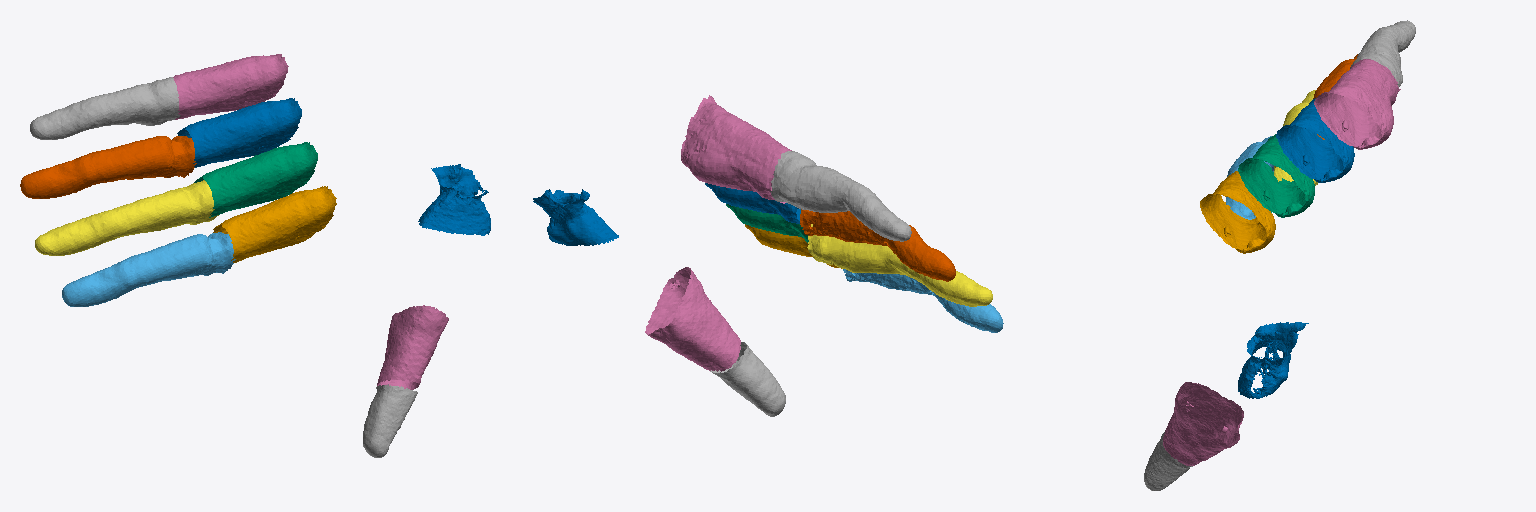
The robot description file, URDF, robot "panda":
<?xml version="1.0" ?>
<robot name="panda" xmlns:xacro="http://www.ros.org/wiki/xacro">
  <link name="base_link"/>
  <joint name="panda_fixed" type="fixed">
    <origin rpy="0 0 0.0" xyz="0 0 0.0"/>
    <parent link="base_link"/>
    <child link="panda_link0"/>
    <axis xyz="0 0 0"/>
  </joint>

  <link name="panda_link0">
    <visual>
      <geometry>
        <mesh filename="meshes/visual/link0.dae"/>
      </geometry>
    </visual>
    <collision>
      <geometry>
        <mesh filename="meshes/collision/link0.obj"/>
      </geometry>
    </collision>


  </link>
  <link name="panda_link1">
    <visual>
      <geometry>
        <mesh filename="meshes/visual/link1.dae"/>
      </geometry>
    </visual>
    <collision>
      <geometry>
        <mesh filename="meshes/collision/link1.obj"/>
      </geometry>
    </collision>
    <inertial>
      <origin rpy="0 0 0" xyz="0.00033 -0.02204 -0.04762"/>
      <mass value="2.797"/>
      <inertia ixx="0.0156" ixy="0.0" ixz="0.0" iyy="0.01439" iyz="-0.0024" izz="0.005"/>
    </inertial>
  </link>
  <joint name="panda_joint1" type="revolute">
    <safety_controller k_position="100.0" k_velocity="40.0" soft_lower_limit="-2.8973" soft_upper_limit="2.8973"/>
    <origin rpy="0 0 0" xyz="0 0 0.333"/>
    <parent link="panda_link0"/>
    <child link="panda_link1"/>
    <axis xyz="0 0 1"/>
    <dynamics damping="10.0"/>
    <limit effort="87" lower="-2.8973" upper="2.8973" velocity="2.1750"/>
  </joint>
  <link name="panda_link2">
    <visual>
      <geometry>
        <mesh filename="meshes/visual/link2.dae"/>
      </geometry>
    </visual>
    <collision>
      <geometry>
        <mesh filename="meshes/collision/link2.obj"/>
      </geometry>
    </collision>
    <inertial>
      <origin rpy="0 0 0" xyz="0.00038 -0.09211 0.01908"/>
      <mass value="2.542"/>
      <inertia ixx="0.0166" ixy="0.0" ixz="0.0" iyy="0.0046" iyz="0.0035" izz="0.015"/>
    </inertial>
  </link>
  <joint name="panda_joint2" type="revolute">
    <safety_controller k_position="100.0" k_velocity="40.0" soft_lower_limit="-1.7628" soft_upper_limit="1.7628"/>
    <origin rpy="-1.57079632679 0 0" xyz="0 0 0"/>
    <parent link="panda_link1"/>
    <child link="panda_link2"/>
    <axis xyz="0 0 1"/>
    <dynamics damping="10.0"/>
    <limit effort="87" lower="-1.7628" upper="1.7628" velocity="2.1750"/>
  </joint>
  <link name="panda_link3">
    <visual>
      <geometry>
        <mesh filename="meshes/visual/link3.dae"/>
      </geometry>
    </visual>
    <collision>
      <geometry>
        <mesh filename="meshes/collision/link3.obj"/>
      </geometry>
    </collision>
    <inertial>
      <origin rpy="0 0 0" xyz="0.05152 0.01696 -0.02971"/>
      <mass value="2.2513"/>
      <inertia ixx="0.0166" ixy="0.0" ixz="0.0" iyy="0.0046" iyz="0.0035" izz="0.015"/>
    </inertial>
  </link>
  <joint name="panda_joint3" type="revolute">
    <safety_controller k_position="100.0" k_velocity="40.0" soft_lower_limit="-2.8973" soft_upper_limit="2.8973"/>
    <origin rpy="1.57079632679 0 0" xyz="0 -0.316 0"/>
    <parent link="panda_link2"/>
    <child link="panda_link3"/>
    <axis xyz="0 0 1"/>
    <dynamics damping="10.0"/>
    <limit effort="87" lower="-2.8973" upper="2.8973" velocity="2.1750"/>
  </joint>
  <link name="panda_link4">
    <visual>
      <geometry>
        <mesh filename="meshes/visual/link4.dae"/>
      </geometry>
    </visual>
    <collision>
      <geometry>
        <mesh filename="meshes/collision/link4.obj"/>
      </geometry>
    </collision>
    <inertial>
      <origin rpy="0 0 0" xyz="-0.05113 0.05825 0.01698"/>
      <mass value="2.2037"/>
      <inertia ixx="0.0156" ixy="0.0" ixz="0.0" iyy="0.01439" iyz="-0.0024" izz="0.005"/>
    </inertial>
  </link>
  <joint name="panda_joint4" type="revolute">
    <safety_controller k_position="100.0" k_velocity="40.0" soft_lower_limit="-3.0718" soft_upper_limit="-0.0698"/>
    <origin rpy="1.57079632679 0 0" xyz="0.0825 0 0"/>
    <parent link="panda_link3"/>
    <child link="panda_link4"/>
    <axis xyz="0 0 1"/>
    <dynamics damping="10.0"/>
    <limit effort="87" lower="-3.0718" upper="-0.0698" velocity="2.1750"/>
    <!-- something is weird with this joint limit config
    <dynamics damping="10.0"/>
    <limit effort="87" lower="-3.0" upper="0.087" velocity="2.1750"/>  -->
  </joint>
  <link name="panda_link5">
    <visual>
      <geometry>
        <mesh filename="meshes/visual/link5.dae"/>
      </geometry>
    </visual>
    <collision>
      <geometry>
        <mesh filename="meshes/collision/link5.obj"/>
      </geometry>
    </collision>
    <inertial>
      <origin rpy="0 0 0" xyz="-0.00005 0.03730 -0.09280"/>
      <mass value="2.2855"/>
      <inertia ixx="0.02297014781" ixy="0.0" ixz="0.0" iyy="0.02095060919" iyz="0.00382345782" izz="0.00430606551"/>
    </inertial>
  </link>
  <joint name="panda_joint5" type="revolute">
    <safety_controller k_position="100.0" k_velocity="40.0" soft_lower_limit="-2.8973" soft_upper_limit="2.8973"/>
    <origin rpy="-1.57079632679 0 0" xyz="-0.0825 0.384 0"/>
    <parent link="panda_link4"/>
    <child link="panda_link5"/>
    <axis xyz="0 0 1"/>
    <dynamics damping="10.0"/>
    <limit effort="12" lower="-2.8973" upper="2.8973" velocity="2.6100"/>
  </joint>
  <link name="panda_link6">
    <visual>
      <geometry>
        <mesh filename="meshes/visual/link6.dae"/>
      </geometry>
    </visual>
    <collision>
      <geometry>
        <mesh filename="meshes/collision/link6.obj"/>
      </geometry>
    </collision>
    <inertial>
      <origin rpy="0 0 0" xyz="0.06572 -0.00371 0.00153"/>
      <mass value="1.353"/>
      <inertia ixx="0.00087964522" ixy="-0.00021487814" ixz="-0.00011911662" iyy="0.00277796968" iyz="0.00001274322" izz="0.00286701969"/>
    </inertial>
  </link>
  <joint name="panda_joint6" type="revolute">
    <safety_controller k_position="100.0" k_velocity="40.0" soft_lower_limit="-0.0175" soft_upper_limit="3.7525"/>
    <origin rpy="1.57079632679 0 0" xyz="0 0 0"/>
    <parent link="panda_link5"/>
    <child link="panda_link6"/>
    <axis xyz="0 0 1"/>
    <dynamics damping="10.0"/>
    <limit effort="12" lower="-0.0175" upper="3.7525" velocity="2.6100"/>
    <!-- <dynamics damping="10.0"/>
    <limit effort="12" lower="-0.0873" upper="3.0" velocity="2.6100"/> -->
  </joint>
  <link name="panda_link7">
    <visual>
      <geometry>
        <mesh filename="meshes/visual/link7.dae"/>
      </geometry>
    </visual>
    <collision>
      <geometry>
        <mesh filename="meshes/collision/link7.obj"/>
      </geometry>
    </collision>
        <inertial>
      <origin rpy="0 0 0" xyz="0.00089 -0.00044 0.05491"/>
      <mass value="0.35973"/>
      <inertia ixx="0.00019541063" ixy="0.00000165231" ixz="0.00000148826" iyy="0.00019210361" iyz="-0.00000131132" izz="0.00017936256"/>
    </inertial>
  </link>
  <joint name="panda_joint7" type="revolute">
    <safety_controller k_position="100.0" k_velocity="40.0" soft_lower_limit="-2.8973" soft_upper_limit="2.8973"/>
    <origin rpy="1.57079632679 0 0" xyz="0.088 0 0"/>
    <parent link="panda_link6"/>
    <child link="panda_link7"/>
    <axis xyz="0 0 1"/>
    <dynamics damping="10.0"/>
    <limit effort="12" lower="-2.8973" upper="2.8973" velocity="2.6100"/>
  </joint>

  <link name="panda_link8"/>
  <joint name="panda_joint8" type="fixed">
    <origin rpy="0 0 0" xyz="0 0 0.107"/>
    <parent link="panda_link7"/>
    <child link="panda_link8"/>
    <axis xyz="0 0 0"/>
  </joint>
  <joint name="panda_hand_joint" type="fixed">
    <parent link="panda_link8"/>
    <child link="hand_base"/>

    <origin rpy="0 0 -0.785398163397" xyz="0 0 0"/>
  </joint>
  
 <link name="hand_base"/>
  <joint name="base_joint" type="fixed">
    <parent link="hand_base"/>
    <child link="hand_base_link"/>
    <origin xyz="0 0 0" rpy="-1.57079 0 3.14159"/>
  </joint>
  <link name="hand_base_link">
    <inertial>
      <origin xyz="-0.0025264 -0.066047 0.0019598" rpy="0 0 0"/>
      <mass value="0.14143"/>
      <inertia ixx="0.00012281" ixy="2.1711E-06" ixz="1.7709E-06" iyy="8.3832E-05" iyz="-1.6551E-06" izz="7.6663E-05"/>
    </inertial>
    <visual>
      <origin xyz="-0.01 0 0.005" rpy="0 0 0"/>
      <geometry>
        <mesh filename="meshes/visual/right_base_link.obj" scale="0.09 0.09 0.09"/>
      </geometry>
    </visual>
    <collision>
    <origin xyz="-0.01 0 0.005" rpy="0 0 0"/>
     <geometry>
        <mesh filename="meshes/visual/right_base_link.obj" scale="0.09 0.09 0.09"/>
      </geometry>
    </collision>
  </link>
  <link name="thumb_proximal_base">
    <inertial>
      <origin xyz="-0.0048064 0.0009382 -0.00757" rpy="0 0 0"/>
      <mass value="0.0018869"/>
      <inertia ixx="5.816E-08" ixy="1.4539E-08" ixz="4.491E-09" iyy="7.9161E-08" iyz="-1.8727E-09" izz="6.7433E-08"/>
    </inertial>
    <visual>
      <origin xyz="-0.002  -0.002 -0.005" rpy="0 0.2 -0.2"/>
      <geometry>
        <mesh filename="meshes/visual/right_thumb_proximal_base.obj" scale="0.08 0.08 0.08"/>
      </geometry>
    </visual>
    <collision>
      <origin xyz="-0.002  -0.002 -0.005" rpy="0 0.2 -0.2"/>
      <geometry>
        <mesh filename="meshes/collision/right_thumb_proximal_base.obj" scale="0.08 0.08 0.08"/>
      </geometry>
    </collision>
  </link>
  <joint name="thumb_proximal_yaw_joint" type="revolute">
    <origin xyz="-0.01696 -0.0691 -0.02045" rpy="1.5708 -1.5708 0"/>
    <parent link="hand_base_link"/>
    <child link="thumb_proximal_base"/>
    <axis xyz="0 0 -1"/>
    <limit lower="0.0" upper="1.308" effort="1" velocity="0.5"/>
  </joint>
  <link name="thumb_proximal">
    <inertial>
      <origin xyz="0.021932 0.012785 -0.0080386" rpy="0 0 0"/>
      <mass value="0.0066075"/>
      <inertia ixx="1.5686E-06" ixy="-7.8296E-07" ixz="8.9143E-10" iyy="1.7353E-06" iyz="-1.0191E-09" izz="2.786E-06"/>
    </inertial>
    <visual>
      <origin xyz="0 0 0.005" rpy="0 0 0.2"/>
      <geometry>
        <mesh filename="meshes/visual/right_thumb_proximal.obj" scale="0.068 0.068 0.14"/>
      </geometry>
    </visual>
    <collision>
      <origin xyz="0 0 0.005" rpy="0 0 0.2"/>
      <geometry>
        <mesh filename="meshes/collision/right_thumb_proximal.obj" scale="0.068 0.068 0.14" />
      </geometry>
    </collision>
  </link>
  <joint name="thumb_proximal_pitch_joint" type="revolute">
    <origin xyz="-0.0088099 0.010892 -0.00925" rpy="1.5708 0 2.8587"/>
    <parent link="thumb_proximal_base"/>
    <child link="thumb_proximal"/>
    <axis xyz="0 0 1"/>
    <limit lower="0" upper="0.6" effort="1" velocity="0.5"/>
  </joint>
  <link name="thumb_intermediate">
    <inertial>
      <origin xyz="0.0095544 -0.0016282 -0.0071997" rpy="0 0 0"/>
      <mass value="0.0037847"/>
      <inertia ixx="3.6981E-07" ixy="-9.8581E-08" ixz="-4.7469E-12" iyy="3.2394E-07" iyz="1.0939E-12" izz="4.6531E-07"/>
    </inertial>
    <visual>
      <origin xyz="0 0.002 0" rpy="0 0 0"/>
      <geometry>
        <mesh filename="meshes/visual/right_thumb_intermediate.obj" scale="0.1 0.1 0.1"/>
      </geometry>
    </visual>
    <collision>
      <origin xyz="0 0.002 0" rpy="0 0 0"/>
      <geometry>
        <mesh filename="meshes/collision/right_thumb_intermediate.obj" scale="0.1 0.1 0.1" />
      </geometry>
    </collision>
  </link>
  <joint name="thumb_intermediate_joint" type="revolute">
    <origin xyz="0.04407 0.034553 -0.0008" rpy="0 0 0"/>
    <parent link="thumb_proximal"/>
    <child link="thumb_intermediate"/>
    <axis xyz="0 0 1"/>
    <limit lower="0" upper="0.8" effort="1" velocity="0.5"/>
    <mimic joint="thumb_proximal_pitch_joint" multiplier="1.334" offset="0"/>
  </joint>
  <link name="thumb_distal">
    <inertial>
      <origin xyz="0.0092888 0.0049529 -0.0060033" rpy="0 0 0"/>
      <mass value="0.0033441"/>
      <inertia ixx="1.3632E-07" ixy="-5.6788E-08" ixz="-9.2764E-11" iyy="1.4052E-07" iyz="-1.2283E-10" izz="2.0026E-07"/>
    </inertial>
    <visual>
      <origin xyz="0 0 -0.002" rpy="0 0 0"/>
      <geometry>
        <mesh filename="meshes/visual/right_thumb_distal.obj" scale="0.1 0.1 0.1"/>
      </geometry>
    </visual>
    <collision>
      <origin xyz="0 0 -0.002" rpy="0 0 0"/>
      <geometry>
        <mesh filename="meshes/collision/right_thumb_distal.obj" scale="0.1 0.1 0.1" />
      </geometry>
    </collision>
  </link>
  <joint name="thumb_distal_joint" type="revolute">
    <origin xyz="0.020248 0.010156 -0.0012" rpy="0 0 0"/>
    <parent link="thumb_intermediate"/>
    <child link="thumb_distal"/>
    <axis xyz="0 0 1"/>
    <limit lower="0" upper="0.4" effort="1" velocity="0.5"/>
    <mimic joint="thumb_proximal_pitch_joint" multiplier="0.667" offset="0"/>
  </joint>
  <link name="index_proximal">
    <inertial>
      <origin xyz="0.0012259 0.011942 -0.0060001" rpy="0 0 0"/>
      <mass value="0.0042403"/>
      <inertia ixx="6.6232E-07" ixy="-1.5775E-08" ixz="1.8515E-12" iyy="2.1146E-07" iyz="-5.0828E-12" izz="6.9398E-07"/>
    </inertial>
    <visual>
      <origin xyz="0 0 0" rpy="0 0 0"/>
      <geometry>
        <mesh filename="meshes/visual/right_index_proximal.obj" scale="0.12 0.12 0.12"/>
      </geometry>
    </visual>
    <collision>
      <origin xyz="0 0 0" rpy="0 0 0"/>
      <geometry>
        <mesh filename="meshes/collision/right_index_proximal.obj" scale="0.12 0.12 0.12" />
      </geometry>
    </collision>
  </link>
  <joint name="index_proximal_joint" type="revolute">
    <origin xyz="0.00028533 -0.13653 -0.032268" rpy="-3.1067 0 0"/>
    <parent link="hand_base_link"/>
    <child link="index_proximal"/>
    <axis xyz="0 0 1"/>
    <limit lower="0" upper="1.47" effort="1" velocity="0.5"/>
  </joint>
  <link name="index_intermediate">
    <inertial>
      <origin xyz="0.0019697 0.019589 -0.005" rpy="0 0 0"/>
      <mass value="0.0045683"/>
      <inertia ixx="7.6111E-07" ixy="8.7637E-08" ixz="-3.7751E-13" iyy="9.6076E-08" iyz="9.9444E-13" izz="7.8179E-07"/>
    </inertial>
    <visual>
      <origin xyz="-0.005 0 0" rpy="0 0 0"/>
      <geometry>
        <mesh filename="meshes/visual/right_index_intermediate.obj" scale="0.12 0.12 0.12"/>
      </geometry>
    </visual>
    <collision>
      <origin xyz="-0.005 0 0" rpy="0 0 0"/>
      <geometry>
        <mesh filename="meshes/collision/right_index_intermediate.obj" scale="0.12 0.12 0.12" />
      </geometry>
    </collision>
  </link>
  <joint name="index_intermediate_joint" type="revolute">
    <origin xyz="-0.0026138 0.032026 -0.001" rpy="0 0 0"/>
    <parent link="index_proximal"/>
    <child link="index_intermediate"/>
    <axis xyz="0 0 1"/>
    <limit lower="-0.04545" upper="1.56" effort="1" velocity="0.5"/>
    <mimic joint="index_proximal_joint" multiplier="1.06399" offset="-0.04545"/>
  </joint>
  <link name="middle_proximal">
    <inertial>
      <origin xyz="0.001297 0.011934 -0.0060001" rpy="0 0 0"/>
      <mass value="0.0042403"/>
      <inertia ixx="6.6211E-07" ixy="-1.8461E-08" ixz="1.8002E-12" iyy="2.1167E-07" iyz="-6.6808E-12" izz="6.9397E-07"/>
    </inertial>
    <visual>
      <origin xyz="0 0 0" rpy="0 0 0"/>
      <geometry>
        <mesh filename="meshes/visual/right_index_proximal.obj" scale="0.12 0.12 0.12"/>
      </geometry>
    </visual>
    <collision>
      <origin xyz="0 0 0" rpy="0 0 0"/>
      <geometry>
        <mesh filename="meshes/collision/right_index_proximal.obj" scale="0.12 0.12 0.12" />
      </geometry>
    </collision>
  </link>
  <joint name="middle_proximal_joint" type="revolute">
    <origin xyz="0.00028533 -0.1371 -0.01295" rpy="-3.1416 0 0"/>
    <parent link="hand_base_link"/>
    <child link="middle_proximal"/>
    <axis xyz="0 0 1"/>
    <limit lower="0" upper="1.47" effort="1" velocity="0.5"/>
  </joint>
  <link name="middle_intermediate">
    <inertial>
      <origin xyz="0.001921 0.020796 -0.005" rpy="0 0 0"/>
      <mass value="0.0050396"/>
      <inertia ixx="9.5822E-07" ixy="1.1425E-07" ixz="-2.4791E-12" iyy="1.0646E-07" iyz="5.9173E-12" izz="9.8384E-07"/>
    </inertial>
    <visual>
      <origin xyz="-0.005 0 0" rpy="0 0 0"/>
      <geometry>
        <mesh filename="meshes/visual/right_middle_intermediate.obj" scale="0.12 0.12 0.12"/>
      </geometry>
    </visual>
    <collision>
      <origin xyz="-0.005 0 0" rpy="0 0 0"/>
      <geometry>
        <mesh filename="meshes/collision/right_middle_intermediate.obj" scale="0.12 0.12 0.12" />
      </geometry>
    </collision>
  </link>
  <joint name="middle_intermediate_joint" type="revolute">
    <origin xyz="-0.0024229 0.032041 -0.001" rpy="0 0 0"/>
    <parent link="middle_proximal"/>
    <child link="middle_intermediate"/>
    <axis xyz="0 0 1"/>
    <limit lower="-0.04545" upper="1.56" effort="1" velocity="3"/>
    <mimic joint="middle_proximal_joint" multiplier="1.06399" offset="-0.04545"/>
  </joint>
  <link name="ring_proximal">
    <inertial>
      <origin xyz="0.001297 0.011934 -0.0060002" rpy="0 0 0"/>
      <mass value="0.0042403"/>
      <inertia ixx="6.6211E-07" ixy="-1.8461E-08" ixz="1.5793E-12" iyy="2.1167E-07" iyz="-6.6868E-12" izz="6.9397E-07"/>
    </inertial>
    <visual>
      <origin xyz="0 0 0" rpy="0 0 0"/>
      <geometry>
        <mesh filename="meshes/visual/right_index_proximal.obj" scale="0.12 0.12 0.12"/>
      </geometry>
    </visual>
    <collision>
      <origin xyz="0 0 0" rpy="0 0 0"/>
      <geometry>
        <mesh filename="meshes/collision/right_index_proximal.obj" scale="0.12 0.12 0.12" />
      </geometry>
    </collision>
  </link>
  <joint name="ring_proximal_joint" type="revolute">
    <origin xyz="0.00028533 -0.13691 0.0062872" rpy="3.0892 0 0"/>
    <parent link="hand_base_link"/>
    <child link="ring_proximal"/>
    <axis xyz="0 0 1"/>
    <limit lower="0" upper="1.47" effort="1" velocity="3"/>
  </joint>
  <link name="ring_intermediate">
    <inertial>
      <origin xyz="0.0021753 0.019567 -0.005" rpy="0 0 0"/>
      <mass value="0.0045683"/>
      <inertia ixx="7.6286E-07" ixy="8.0635E-08" ixz="-6.1562E-13" iyy="9.431E-08" iyz="5.8619E-13" izz="7.8177E-07"/>
    </inertial>
    <visual>
      <origin xyz="-0.005 0 0" rpy="0 0 0"/>
      <geometry>
        <mesh filename="meshes/visual/right_index_intermediate.obj" scale="0.12 0.12 0.12"/>
      </geometry>
    </visual>
    <collision>
      <origin xyz="-0.005 0 0" rpy="0 0 0"/>
      <geometry>
        <mesh filename="meshes/collision/right_index_intermediate.obj" scale="0.12 0.12 0.12" />
      </geometry>
    </collision>
  </link>
  <joint name="ring_intermediate_joint" type="revolute">
    <origin xyz="-0.0024229 0.032041 -0.001" rpy="0 0 0"/>
    <parent link="ring_proximal"/>
    <child link="ring_intermediate"/>
    <axis xyz="0 0 1"/>
    <limit lower="-0.04545" upper="1.56" effort="1" velocity="3"/>
    <mimic joint="ring_proximal_joint" multiplier="1.06399" offset="-0.04545"/>
  </joint>
  <link name="pinky_proximal">
    <inertial>
      <origin xyz="0.001297 0.011934 -0.0060001" rpy="0 0 0"/>
      <mass value="0.0042403"/>
      <inertia ixx="6.6211E-07" ixy="-1.8461E-08" ixz="1.6907E-12" iyy="2.1167E-07" iyz="-6.9334E-12" izz="6.9397E-07"/>
    </inertial>
    <visual>
      <origin xyz="0 0 0" rpy="0 0 0"/>
      <geometry>
        <mesh filename="meshes/visual/right_index_proximal.obj" scale="0.12 0.12 0.12"/>
      </geometry>
    </visual>
    <collision>
      <origin xyz="0 0 0" rpy="0 0 0"/>
      <geometry>
        <mesh filename="meshes/collision/right_index_proximal.obj" scale="0.12 0.12 0.12" />
      </geometry>
    </collision>
  </link>
  <joint name="pinky_proximal_joint" type="revolute">
    <origin xyz="0.00028533 -0.13571 0.025488" rpy="3.0369 0 0"/>
    <parent link="hand_base_link"/>
    <child link="pinky_proximal"/>
    <axis xyz="0 0 1"/>
    <limit lower="0" upper="1.47" effort="1" velocity="3"/>
  </joint>
  <link name="pinky_intermediate">
    <inertial>
      <origin xyz="0.0024748 0.016203 -0.0050031" rpy="0 0 0"/>
      <mass value="0.0035996"/>
      <inertia ixx="4.3913E-07" ixy="4.1418E-08" ixz="3.7168E-11" iyy="7.0247E-08" iyz="5.8613E-11" izz="4.4867E-07"/>
    </inertial>
    <visual>
      <origin xyz="-0.005 0 0" rpy="0 0 0"/>
      <geometry>
        <mesh filename="meshes/visual/right_pinky_intermediate.obj" scale="0.12 0.12 0.12"/>
      </geometry>
    </visual>
    <collision>
      <origin xyz="-0.005 0 0" rpy="0 0 0"/>
      <geometry>
        <mesh filename="meshes/collision/right_pinky_intermediate.obj" scale="0.12 0.12 0.12" />
      </geometry>
    </collision>
  </link>
  <joint name="pinky_intermediate_joint" type="revolute">
    <origin xyz="-0.0024229 0.032041 -0.001" rpy="0 0 0"/>
    <parent link="pinky_proximal"/>
    <child link="pinky_intermediate"/>
    <axis xyz="0 0 1"/>
    <limit lower="-0.04545" upper="1.56" effort="1" velocity="3"/>
    <mimic joint="pinky_proximal_joint" multiplier="1.06399" offset="-0.04545"/>
  </joint>

  <link name='thumb_tip'/>
  <joint name="thumb_tip_joint" type="fixed">
    <origin xyz="0.0202 0.0140 -0.006" rpy="0 0 0"/>
    <parent link="thumb_distal"/>
    <child link="thumb_tip"/>
  </joint>
  <link name='index_tip'/>
  <joint name="index_tip_joint" type="fixed">
    <origin xyz="-0.0008 0.045 -0.005" rpy="0 0 0"/>
    <parent link="index_intermediate"/>
    <child link="index_tip"/>
  </joint>
  <link name='middle_tip'/>
  <joint name="middle_tip_joint" type="fixed">
    <origin xyz="-0.001 0.048 -0.005" rpy="0 0 0"/>
    <parent link="middle_intermediate"/>
    <child link="middle_tip"/>
  </joint>
  <link name='ring_tip'/>
  <joint name="ring_tip_joint" type="fixed">
    <origin xyz="-0.0008 0.045 -0.005" rpy="0 0 0"/>
    <parent link="ring_intermediate"/>
    <child link="ring_tip"/>
  </joint>
  <link name='pinky_tip'/>
  <joint name="pinky_tip_joint" type="fixed">
    <origin xyz="-0.0008 0.037 -0.005" rpy="0 0 0"/>
    <parent link="pinky_intermediate"/>
    <child link="pinky_tip"/>
  </joint>
  
  
  <link name="ee_link"/>
  
 
  
  
  <joint name="ee_fixed_joint" type="fixed">
    <parent link="hand_base"/>
    <child link="ee_link"/>
    <origin rpy="0 0.0 0" xyz="0.0 0. 0.1"/>
  </joint>
  <link name="right_gripper">
    <inertial>
      <!-- Dummy inertial parameters to avoid link lumping-->
      <mass value="0.01"/>
      <inertia ixx="0.0001" ixy="0.0" ixz="0.0" iyy="0.0001" iyz="0.0" izz="0.0001"/>
      <origin rpy="0 0 0" xyz="0 0 0"/>
    </inertial>
  </link>
  <joint name="right_gripper" type="fixed">
    <!--<origin rpy="0 0 2.35619449019" xyz="0 0 0.1"/>-->
    <origin rpy="0 0 2.35619449019" xyz="0 0 0.207"/>
    <axis xyz="0 0 1"/>
    <parent link="panda_link7"/>
    <!--<parent link="panda_link8"/>-->
    <child link="right_gripper"/>
  </joint>

</robot>

--- Facts derived from the render (not from the file) ---
The picture shows the robot from 3 angles, left to right: view 1: azimuth 30°, elevation 25°; view 2: azimuth 150°, elevation 25°; view 3: azimuth 270°, elevation 25°; orthographic projection.
Model panda with 31 links and 30 joints (19 revolute, 11 fixed), rooted at base_link, posed joints at zero except 1 at the middle of their limits (panda_joint4 = -1.57, index_intermediate_joint = -0.0454, middle_intermediate_joint = -0.0454, ring_intermediate_joint = -0.0454, pinky_intermediate_joint = -0.0454).
Links seen in each view (by area): view 1: ring_intermediate, index_intermediate, middle_intermediate, ring_proximal, pinky_intermediate, index_proximal, pinky_proximal, middle_proximal, thumb_intermediate, thumb_proximal_base, thumb_distal; view 2: pinky_proximal, thumb_intermediate, pinky_intermediate, middle_intermediate, ring_intermediate, thumb_proximal_base, thumb_distal, index_intermediate, ring_proximal, middle_proximal, index_proximal; view 3: pinky_proximal, thumb_intermediate, ring_proximal, middle_proximal, index_proximal, thumb_proximal_base, pinky_intermediate, thumb_distal, index_intermediate.
Link boxes in pixels (x1,y1,x2,y2): ring_intermediate: (20, 136, 196, 198); index_intermediate: (62, 232, 235, 306); middle_intermediate: (35, 180, 218, 255); ring_proximal: (177, 98, 301, 167); pinky_intermediate: (30, 77, 180, 139); index_proximal: (213, 186, 336, 262); pinky_proximal: (173, 54, 288, 119); middle_proximal: (194, 142, 317, 217); thumb_intermediate: (377, 305, 448, 389); thumb_proximal_base: (418, 164, 490, 235); thumb_distal: (363, 384, 417, 457); pinky_proximal: (681, 95, 791, 203); thumb_intermediate: (645, 267, 740, 371); pinky_intermediate: (770, 151, 911, 241); middle_intermediate: (807, 224, 992, 306); ring_intermediate: (800, 209, 955, 281); thumb_proximal_base: (533, 189, 618, 245); thumb_distal: (710, 342, 785, 416); index_intermediate: (843, 269, 1003, 332); ring_proximal: (705, 183, 800, 223); middle_proximal: (726, 204, 808, 242); index_proximal: (745, 224, 841, 268); pinky_proximal: (1314, 59, 1400, 149); thumb_intermediate: (1163, 382, 1243, 465); ring_proximal: (1276, 98, 1354, 182); middle_proximal: (1238, 134, 1314, 217); index_proximal: (1200, 171, 1275, 253); thumb_proximal_base: (1238, 322, 1308, 398); pinky_intermediate: (1350, 20, 1415, 86); thumb_distal: (1144, 432, 1192, 490); index_intermediate: (1226, 136, 1273, 219).
Size in the robot's own frame: 0.191 by 0.0946 by 0.1491 metres.
11 mesh visuals loaded from 17 distinct referenced files (7 OBJ); not drawn: 10 (reference not matched to a file when rendering).